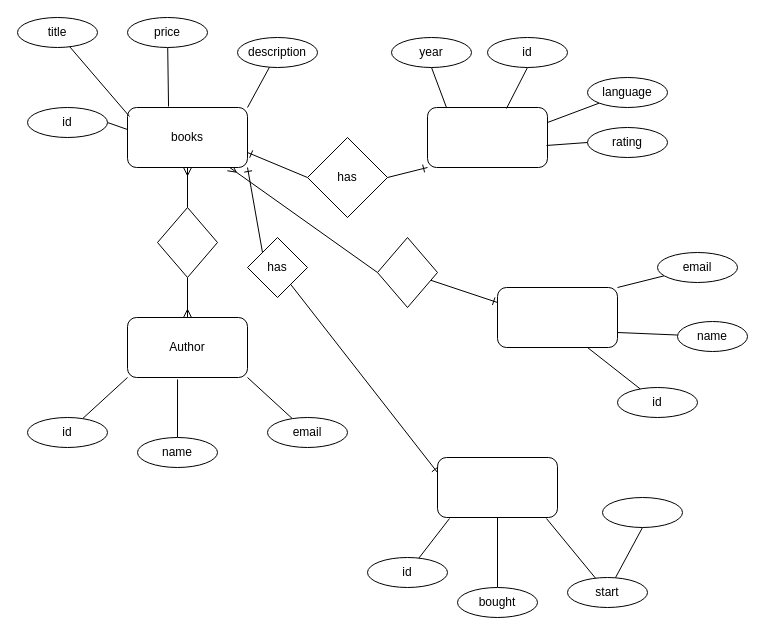
This 765x635 diagram has some shape labels left out. Here are the shapes that lost their labels. From the top down, the box of each, then its label:
(426, 106, 548, 168): book_details
(156, 206, 218, 278): is written
(376, 236, 438, 308): is published
(496, 286, 618, 348): publisher
(436, 456, 558, 518): book_dates
(602, 496, 682, 528): end
